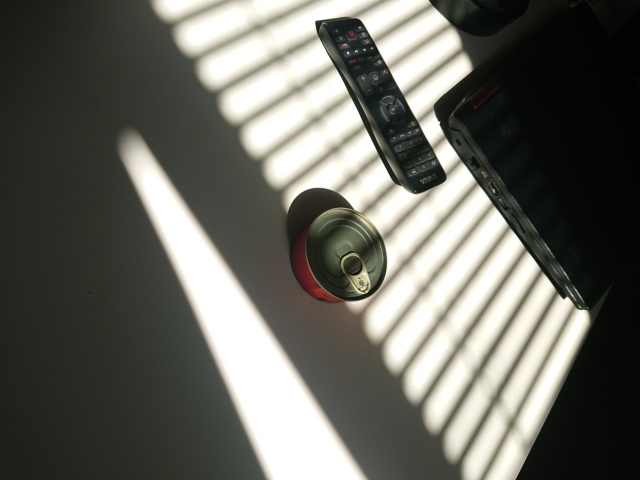Gavrilovic Pork Liver Pate 100g: (287, 204, 389, 306)
